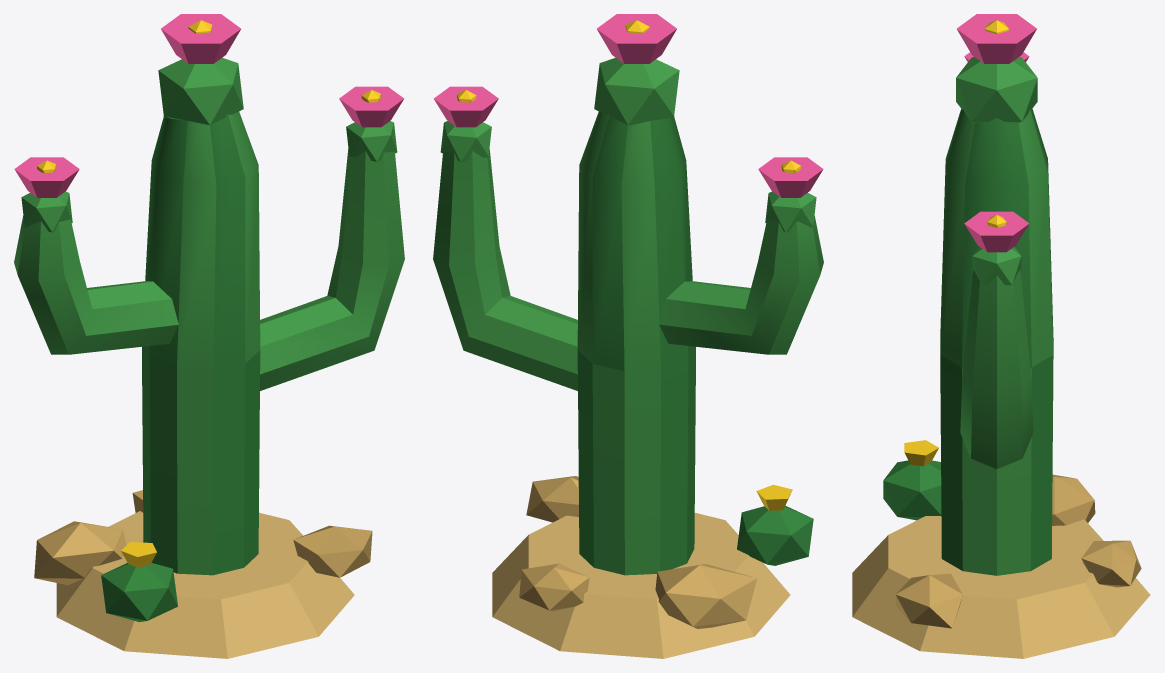
Rendered from cactus.glb.
3 views of the same model, side by side, from view 1: azimuth 30°, elevation 25°; view 2: azimuth 150°, elevation 25°; view 3: azimuth 270°, elevation 25° (orthographic).
Visible parts, largest first — view 1: cactus; view 2: cactus; view 3: cactus.
Boxes of the visible parts, x1,y1,x2,y2 form: cactus: [14, 14, 404, 658]; cactus: [433, 14, 823, 658]; cactus: [852, 14, 1150, 658].
Size of the model in its own units: 4.61 by 6.6 by 3.1.
1 material, 1 textured.
